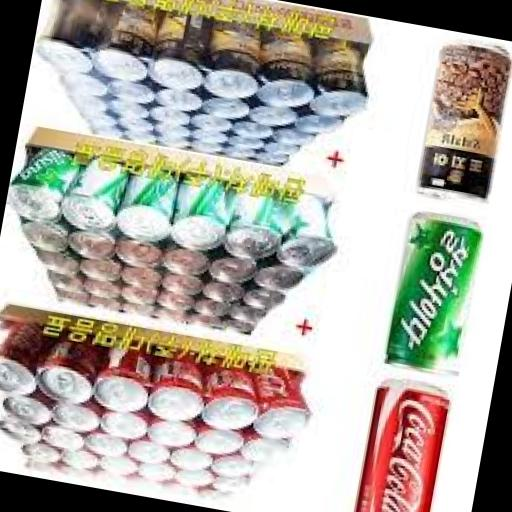Coca: (348, 369, 461, 512)
